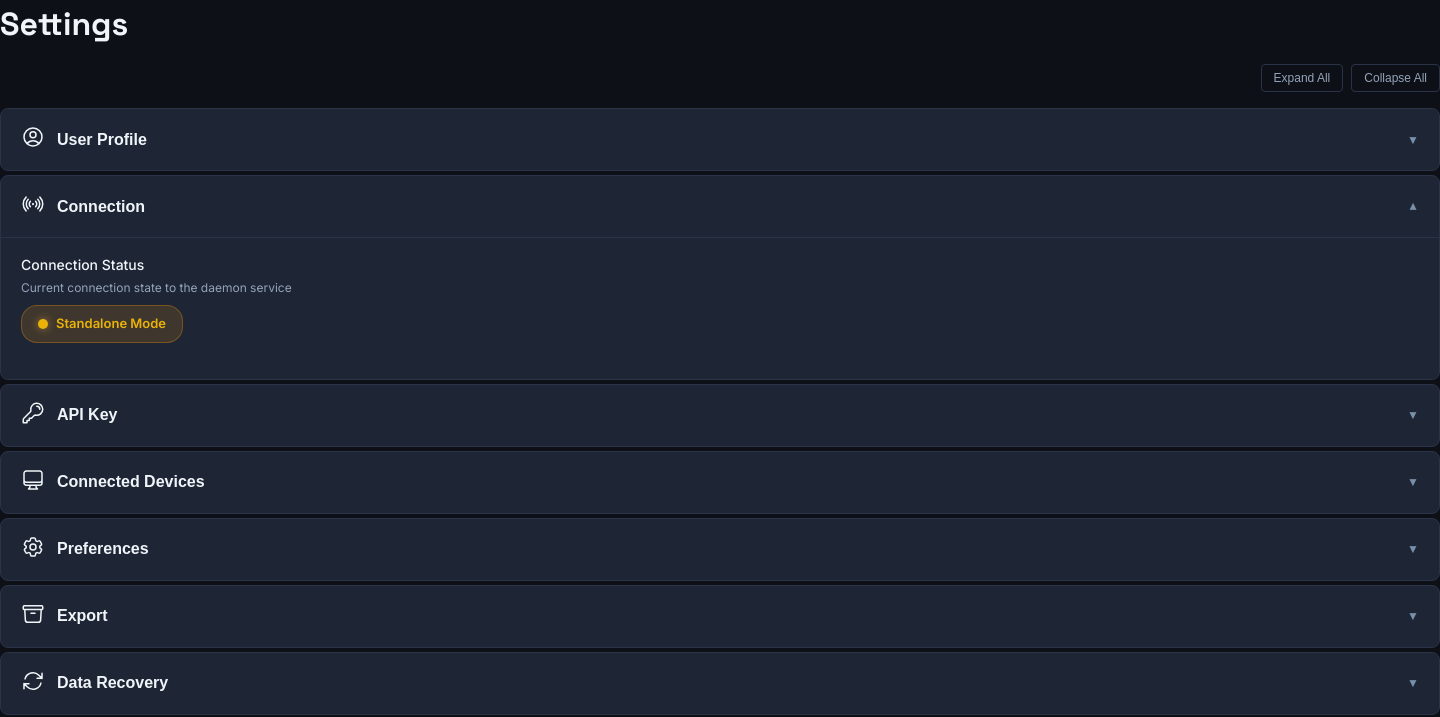
it: Settings › accordion navigation › expands all sections when Expand All is clicked
Click the button "Expand All". click: {"x": 1302, "y": 78}
box: [1261,64,1343,92]
(page scrolled)
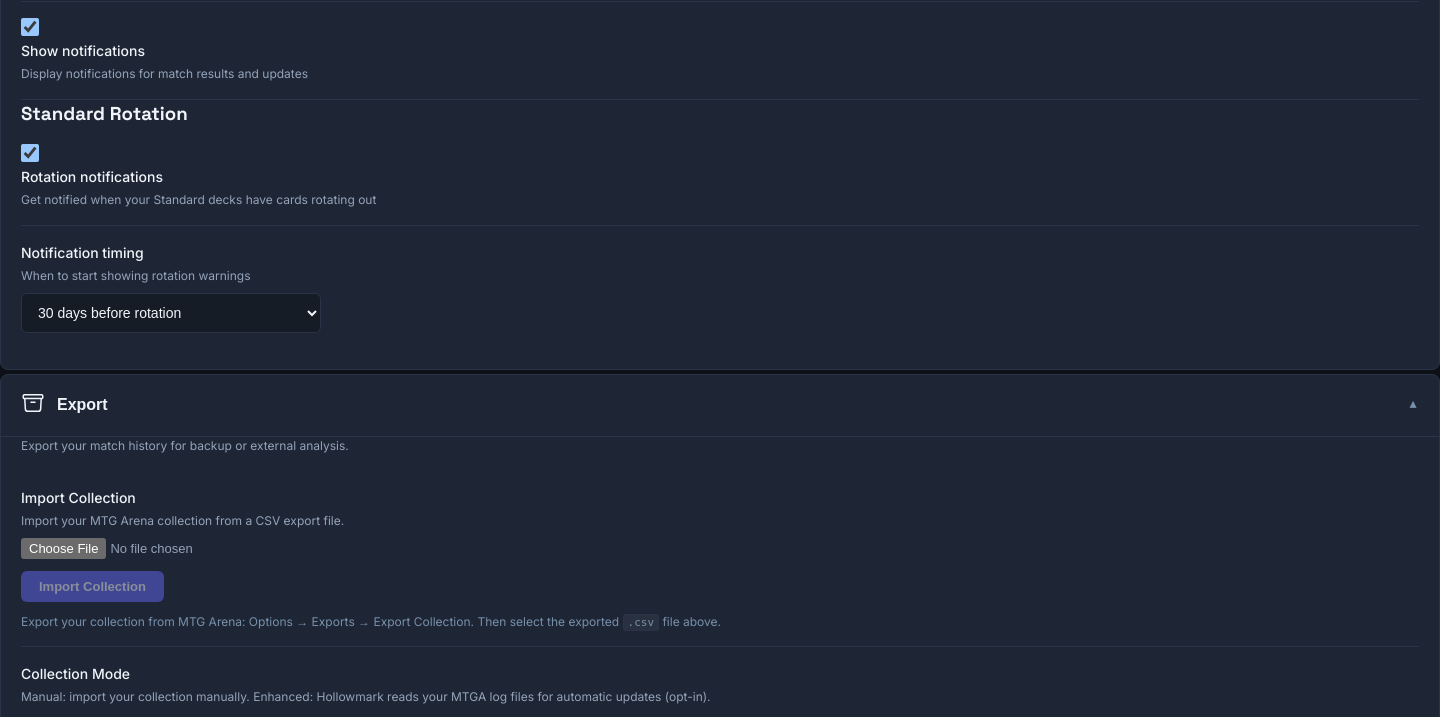
expect the button "Export ▼" is expanded: met, box [1,375,1439,436]
